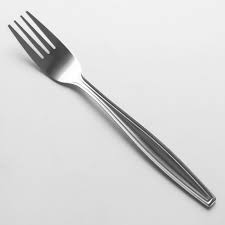fork: (4, 8, 219, 212)
